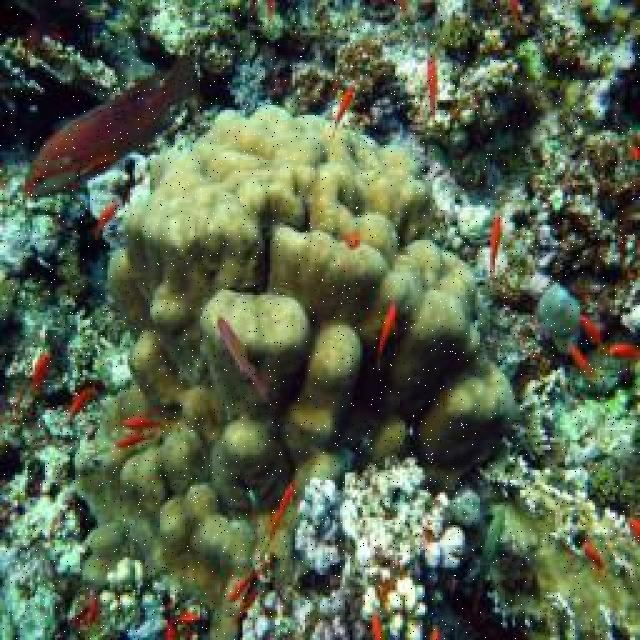fish: (26, 54, 201, 199), (217, 314, 275, 394), (376, 301, 395, 364), (67, 389, 95, 418), (335, 85, 355, 123), (571, 341, 591, 379), (32, 352, 51, 390), (490, 213, 501, 274), (603, 344, 638, 361), (427, 50, 436, 113), (577, 318, 601, 341), (114, 435, 145, 450), (122, 417, 154, 429)
reefs: (81, 106, 522, 638)
